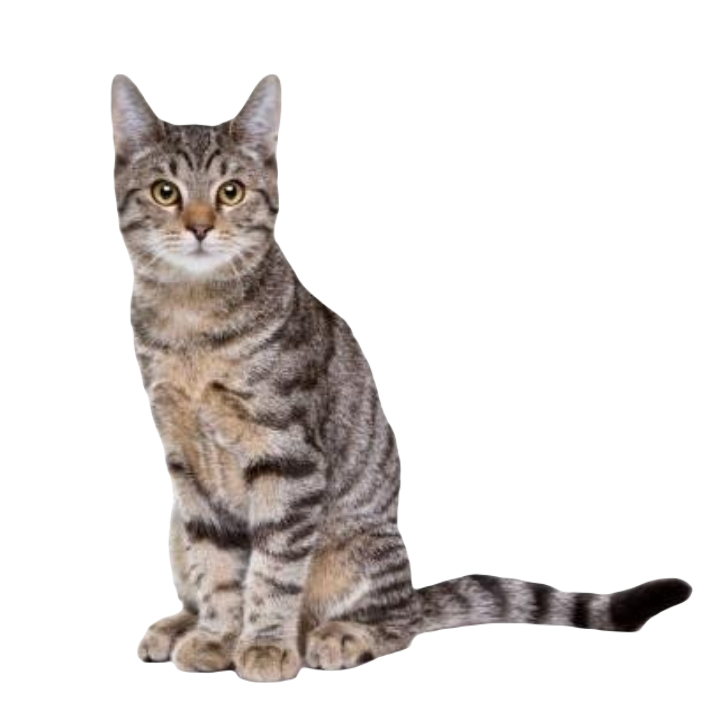Cat: (101, 58, 704, 680)
